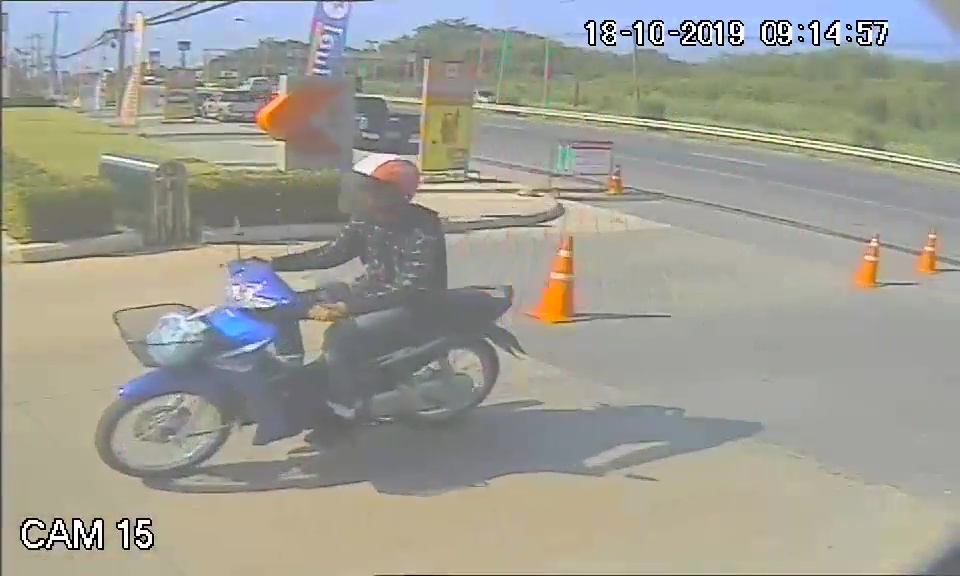motorcycle: (94, 253, 526, 478)
